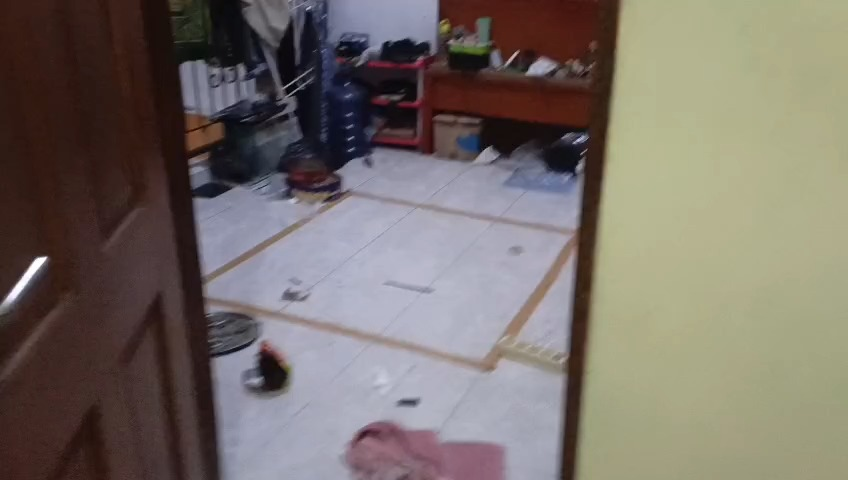floor marking: (202, 190, 578, 371)
